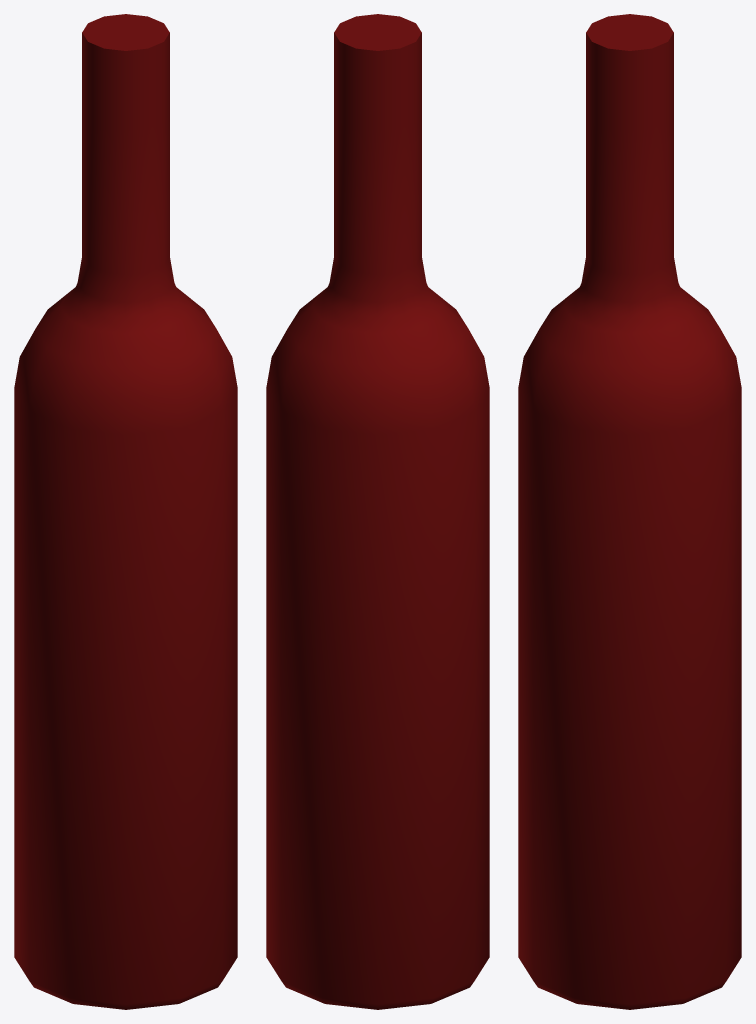
The model's file is Flasche.fbx.
The picture shows the model from 3 angles, left to right: view 1: azimuth 30°, elevation 25°; view 2: azimuth 150°, elevation 25°; view 3: azimuth 270°, elevation 25°; orthographic projection.
Visible parts, largest first — view 1: Flasche; view 2: Flasche; view 3: Flasche.
Part boxes in pixels (x1,y1,x2,y2): Flasche: (14,14,237,1009); Flasche: (266,14,489,1009); Flasche: (518,14,741,1009).
Size of the model in its own units: 0.063 by 0.2901 by 0.063.
